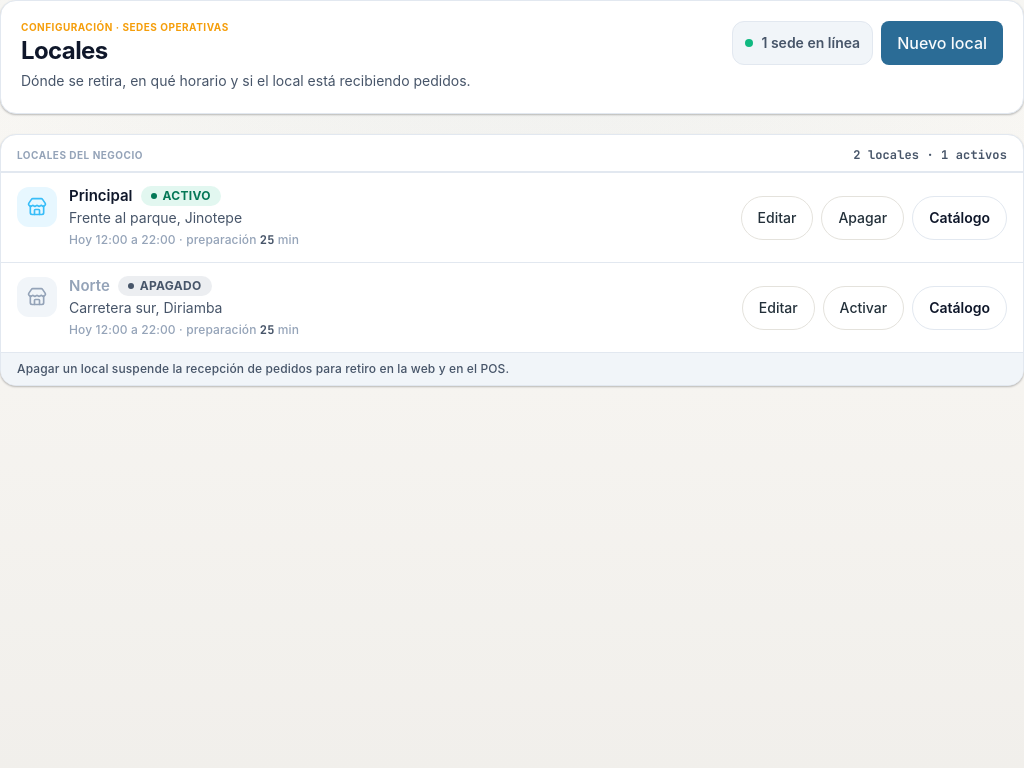
it: AdminLocationsPage › apaga el punto de venta del local y lo guarda
Click the button with aria-label "Editar local Norte": (778, 308) [742, 286, 815, 330]
(page scrolled)
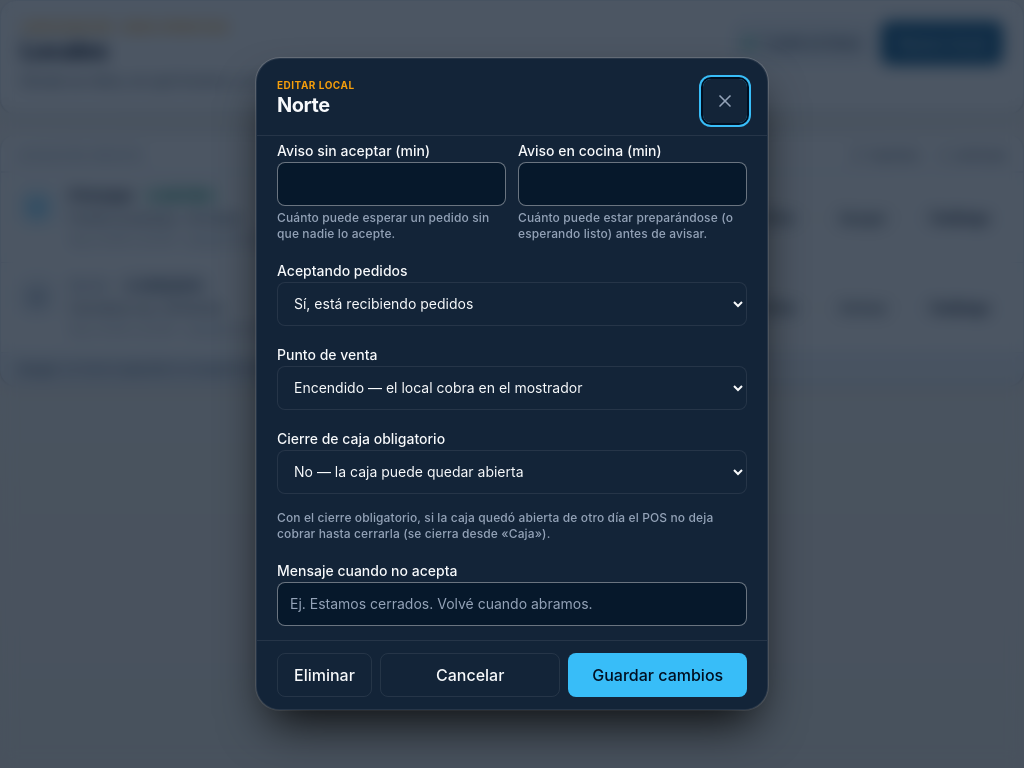
Select "Apagado — solo pedidos en línea" in the dropdown labelled "Punto de venta": (512, 388) [277, 366, 747, 410]
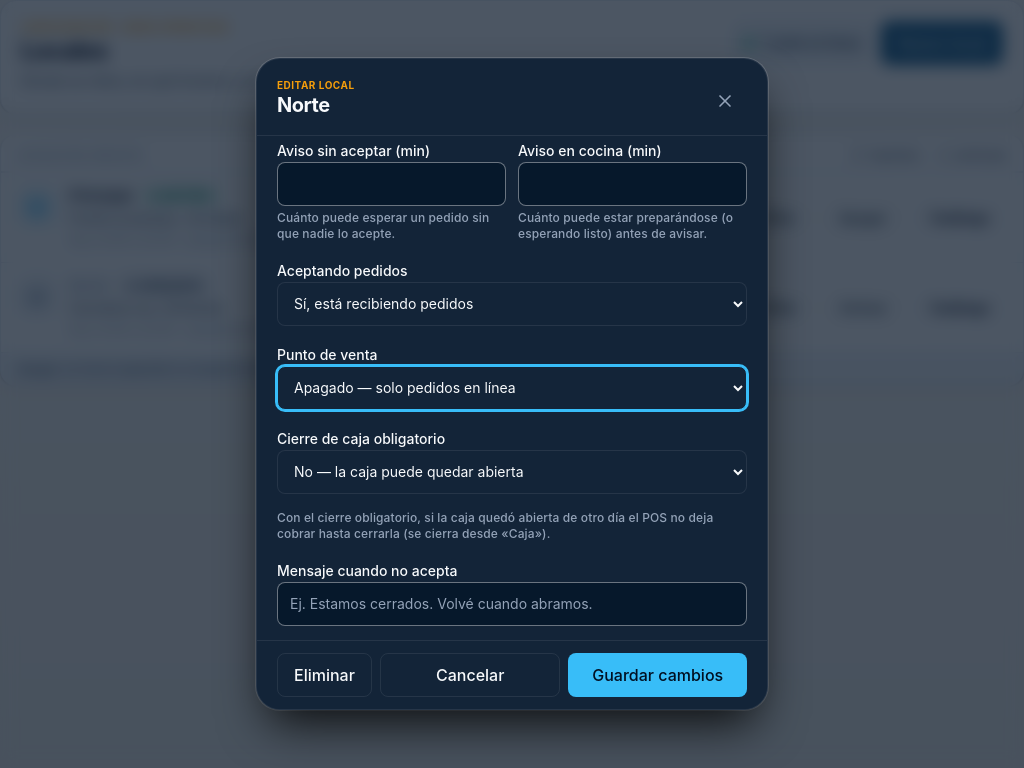
Click the button "Guardar cambios": (658, 675) [568, 653, 747, 697]
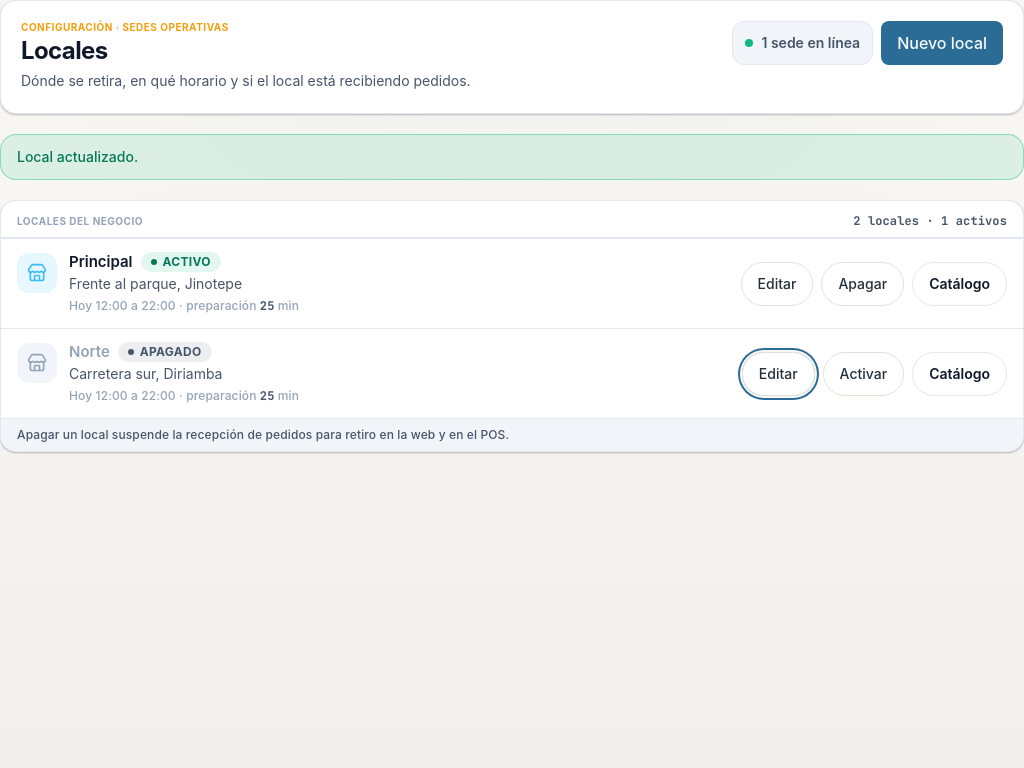
Expected: the text "Local actualizado." is shown, [0, 134, 1023, 180]
